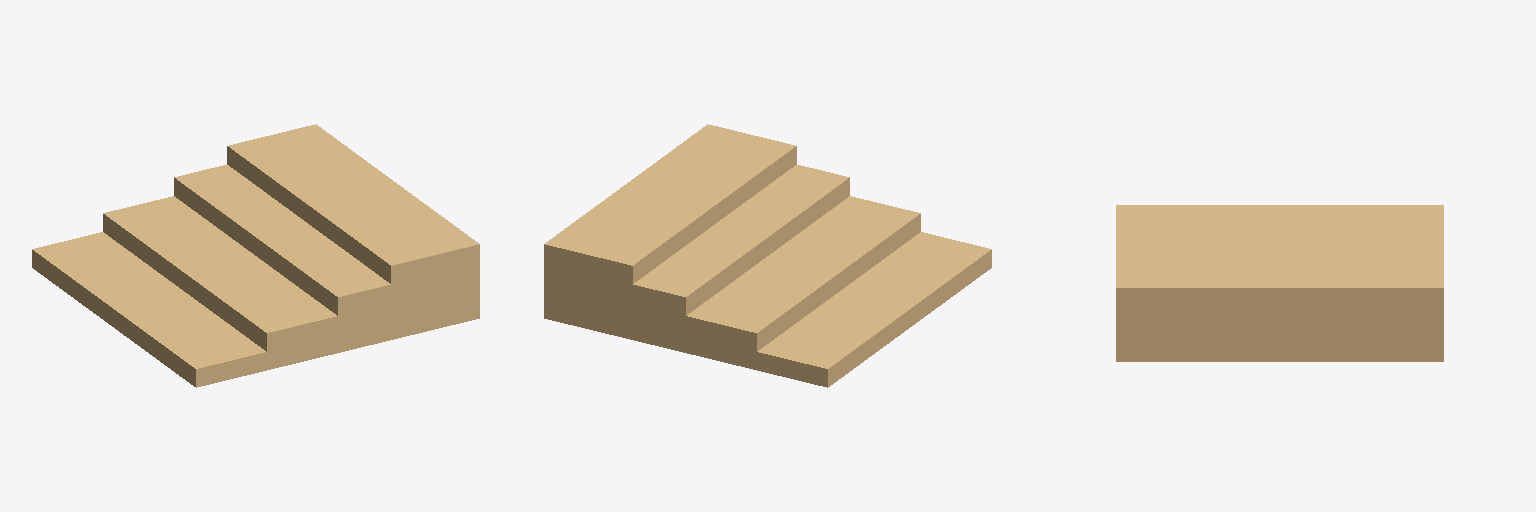
The picture shows the model from 3 angles: view 1: azimuth 30°, elevation 25°; view 2: azimuth 150°, elevation 25°; view 3: azimuth 270°, elevation 25°; orthographic projection.
Visible parts, largest first — view 1: object 1; view 2: object 1; view 3: object 1.
Boxes of the visible parts, x1=… form: object 1: x1=32, y1=124, x2=479, y2=387; object 1: x1=544, y1=124, x2=991, y2=387; object 1: x1=1116, y1=205, x2=1443, y2=361.
Bounding box in the file's own units: 1.6 × 0.4 × 1.6.
1 materials, 1 textured.